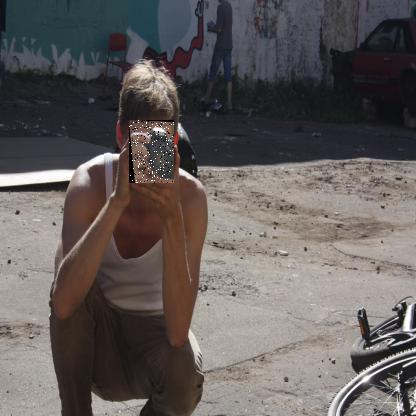Camera: (130, 121, 176, 185)
